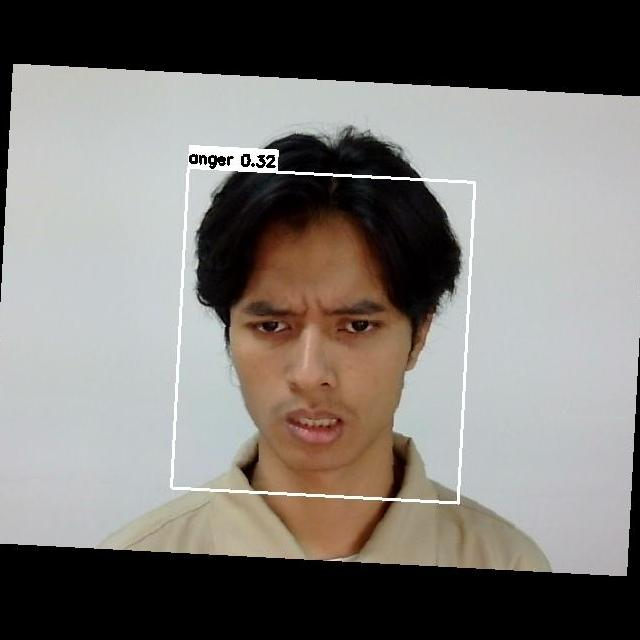Disgust: (223, 272, 425, 445)
